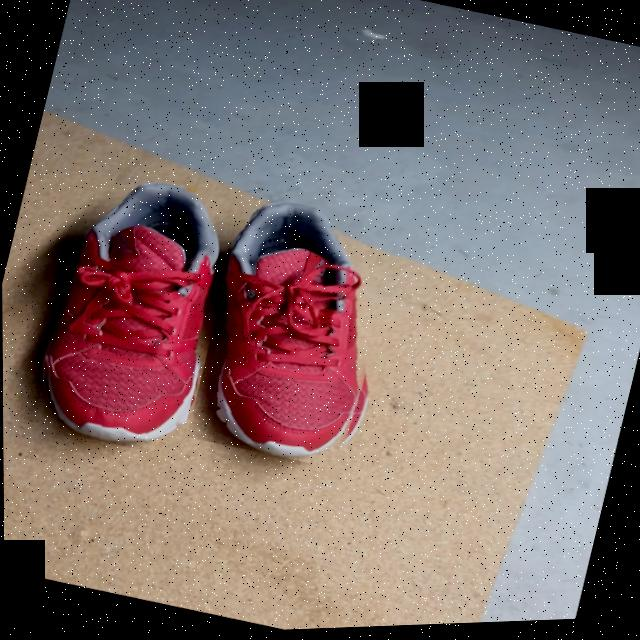shoe: (43, 186, 219, 446), (215, 207, 361, 463)
